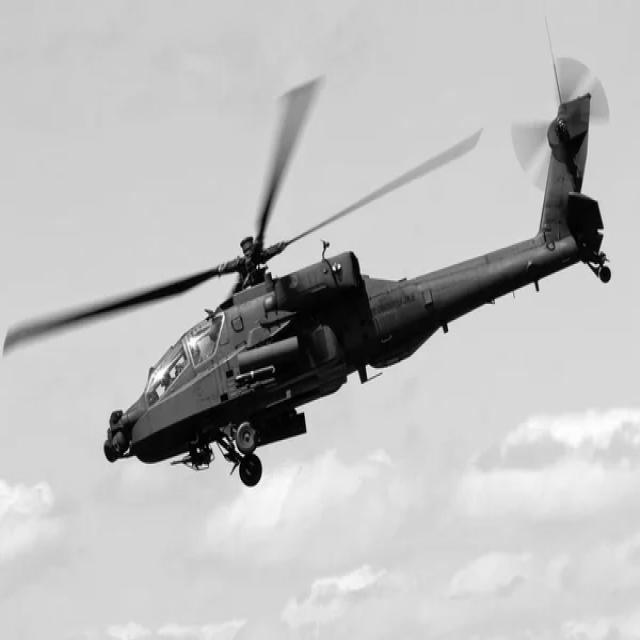Helicopter: (3, 58, 612, 486)
